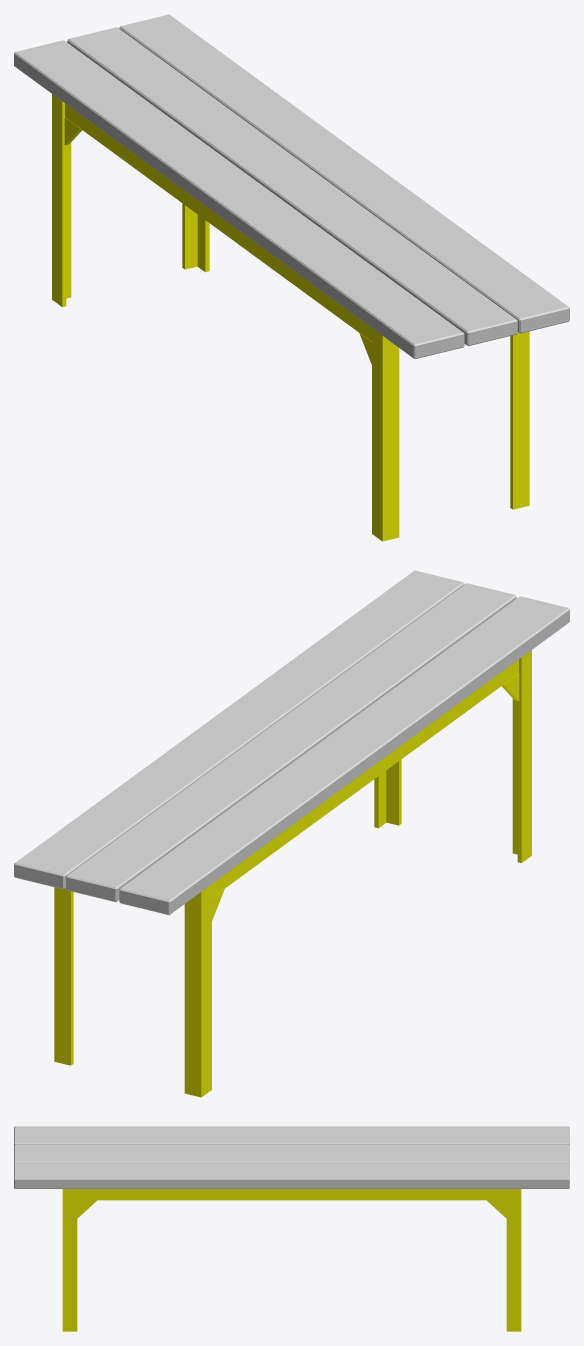
The picture shows the model from 3 angles, top to bottom: view 1: azimuth 30°, elevation 25°; view 2: azimuth 150°, elevation 25°; view 3: azimuth 270°, elevation 25°; orthographic projection. The views are drawn at different scales.
Visible parts, largest first — view 1: B-07; view 2: B-07; view 3: B-07.
Boxes of the visible parts, x1,y1,x2,y2 form: B-07: [14, 14, 569, 541]; B-07: [14, 570, 569, 1097]; B-07: [14, 1126, 569, 1331].
Size of the model in its own units: 33 by 44.94 by 146.
